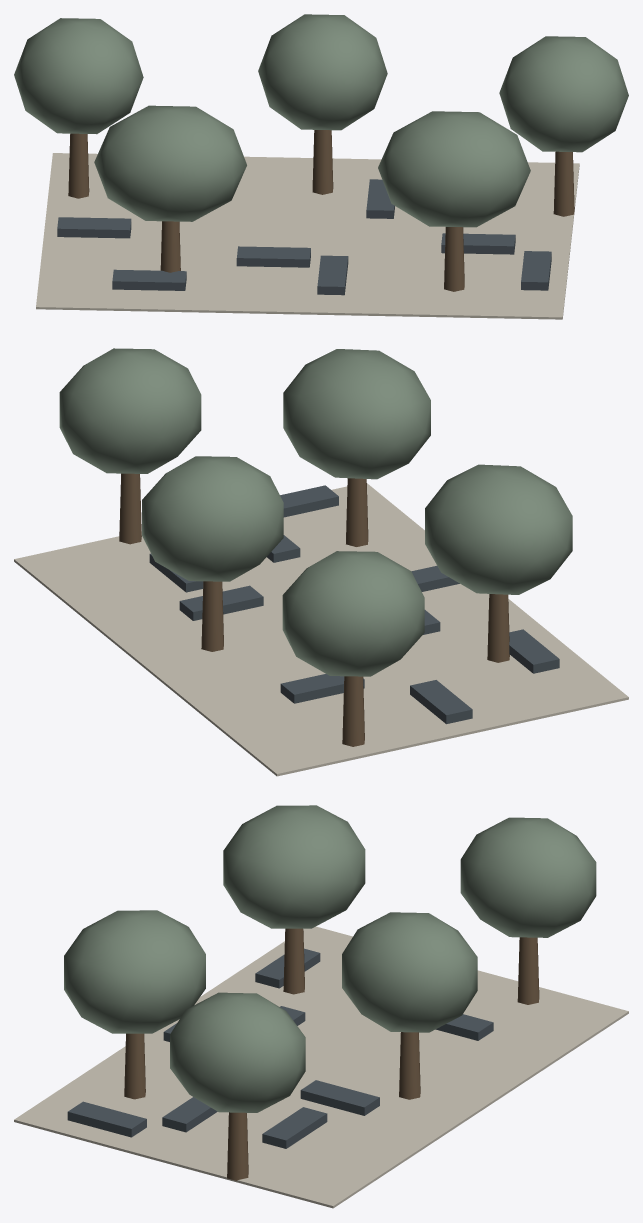
Rendered from gould-plaza.glb.
3 renders of one model, top to bottom at view 1: azimuth 30°, elevation 25°; view 2: azimuth 150°, elevation 25°; view 3: azimuth 270°, elevation 25°, orthographic. The views are drawn at different scales.
Visible parts, largest first — view 1: Detailed Gould Plaza paving trees and seating, object 10, object 8, object 7, object 9, object 11, object 14, object 12, object 17, object 5, object 2, object 6 (+6 smaller); view 2: Detailed Gould Plaza paving trees and seating, object 10, object 8, object 7, object 11, object 9, object 12, object 6, object 2, object 4, object 3, object 5 (+5 smaller); view 3: Detailed Gould Plaza paving trees and seating, object 8, object 10, object 7, object 11, object 9, object 15, object 20, object 19, object 6, object 4, object 2 (+5 smaller).
Boxes of the visible parts, <box> form: Detailed Gould Plaza paving trees and seating: <box>36,153,579,319</box>; object 10: <box>378,111,530,227</box>; object 8: <box>94,105,246,221</box>; object 7: <box>14,18,143,134</box>; object 9: <box>258,14,387,130</box>; object 11: <box>499,36,628,152</box>; object 14: <box>236,246,310,267</box>; object 12: <box>57,217,131,238</box>; object 17: <box>112,269,186,290</box>; object 5: <box>444,227,464,291</box>; object 2: <box>68,133,89,198</box>; object 6: <box>553,151,574,216</box>; Detailed Gould Plaza paving trees and seating: <box>14,483,628,776</box>; object 10: <box>283,349,430,479</box>; object 8: <box>425,464,572,594</box>; object 7: <box>282,551,424,676</box>; object 11: <box>59,348,201,473</box>; object 9: <box>142,456,283,581</box>; object 12: <box>410,680,472,724</box>; object 6: <box>119,473,141,544</box>; object 2: <box>342,676,364,746</box>; object 4: <box>201,581,223,651</box>; object 3: <box>487,594,509,662</box>; object 5: <box>346,478,368,546</box>; Detailed Gould Plaza paving trees and seating: <box>14,926,628,1208</box>; object 8: <box>223,805,365,928</box>; object 10: <box>64,910,205,1033</box>; object 7: <box>460,817,596,937</box>; object 11: <box>170,992,305,1112</box>; object 9: <box>342,912,477,1032</box>; object 15: <box>300,1080,379,1115</box>; object 20: <box>67,1101,146,1137</box>; object 19: <box>262,1107,327,1148</box>; object 6: <box>227,1112,248,1180</box>; object 4: <box>399,1032,420,1099</box>; object 2: <box>517,937,539,1004</box>.
Size of the model in its own units: 31.6 by 9.4 by 29.18.
